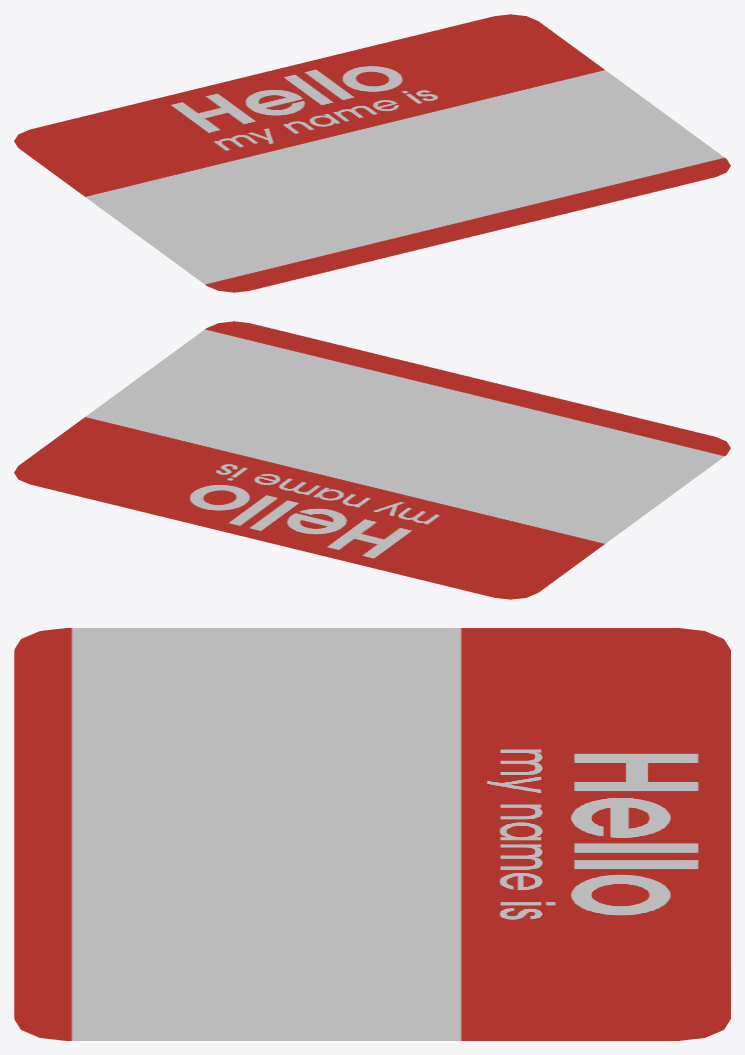
File: NameTag1.glb
3 views of the same model, one above another, from view 1: azimuth 30°, elevation 25°; view 2: azimuth 150°, elevation 25°; view 3: azimuth 270°, elevation 25° (orthographic). The views are drawn at different scales.
Visible parts, largest first — view 1: Plane; view 2: Plane; view 3: Plane.
Boxes of the visible parts, x1,y1,x2,y2 form: Plane: (14,14,730,292); Plane: (14,321,730,599); Plane: (14,628,730,1040).
Bounding box in the file's own units: 2.72 × 0 × 2.
1 material, 1 textured.
